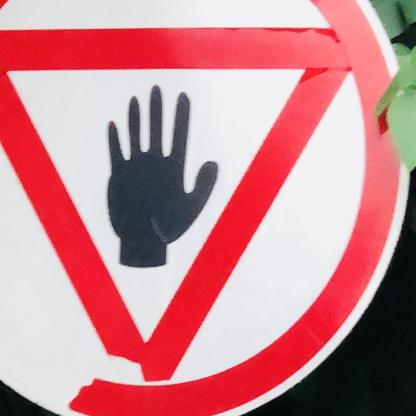Stop: (0, 0, 412, 416), (107, 84, 218, 268)
